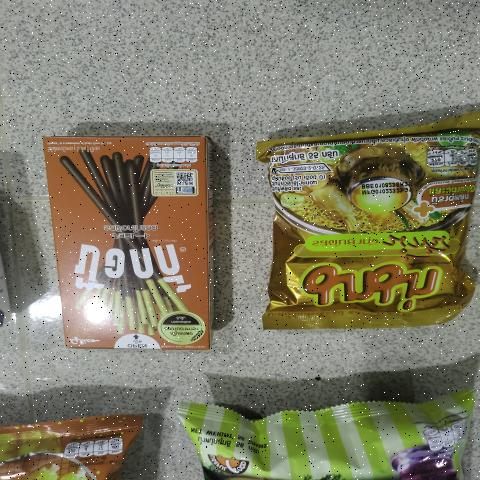mama: (275, 133, 480, 328)
pokki: (64, 150, 212, 348)
